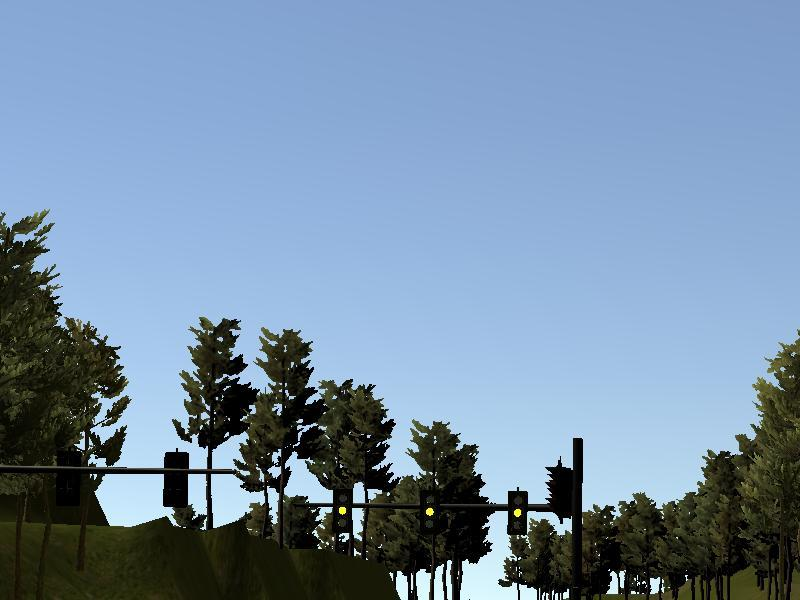Yellow: (507, 490, 528, 535), (420, 490, 440, 536), (333, 488, 352, 531)
